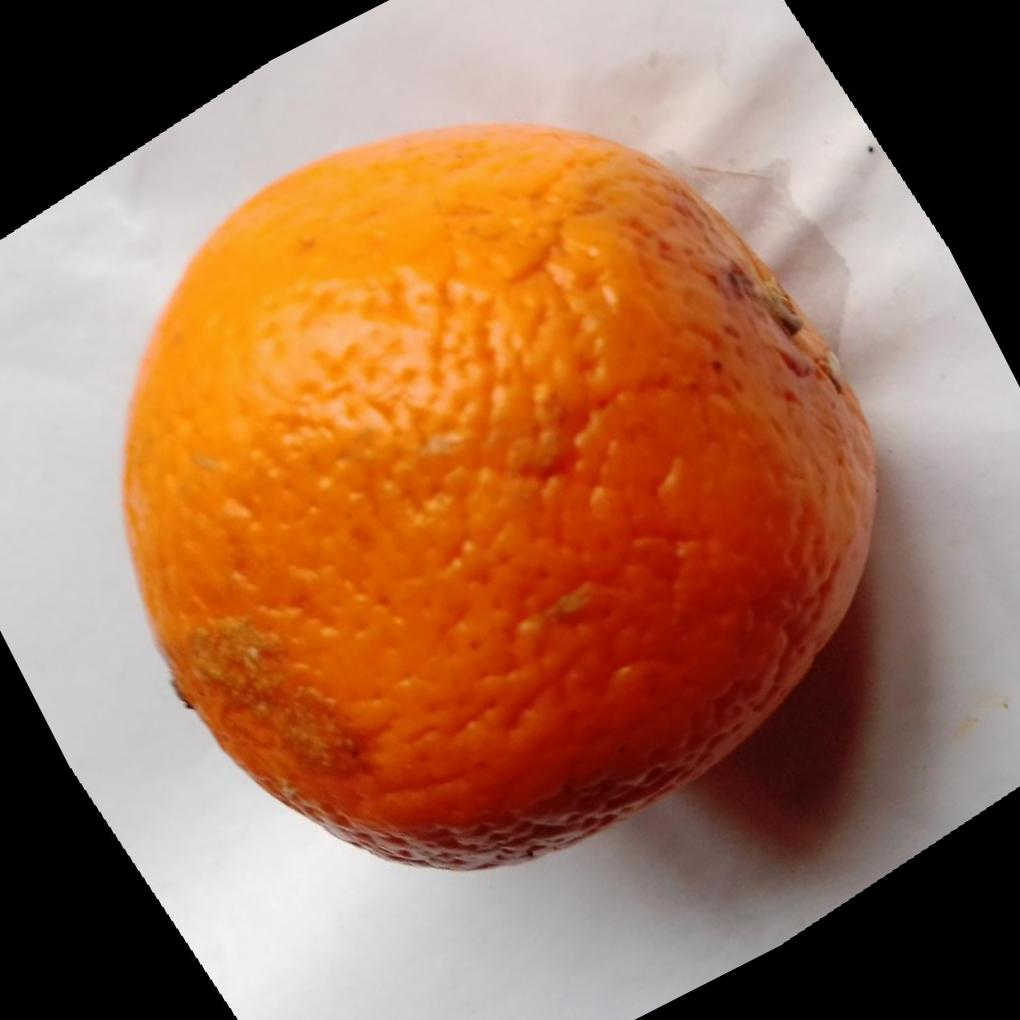FreshOrange: (114, 121, 876, 875)
